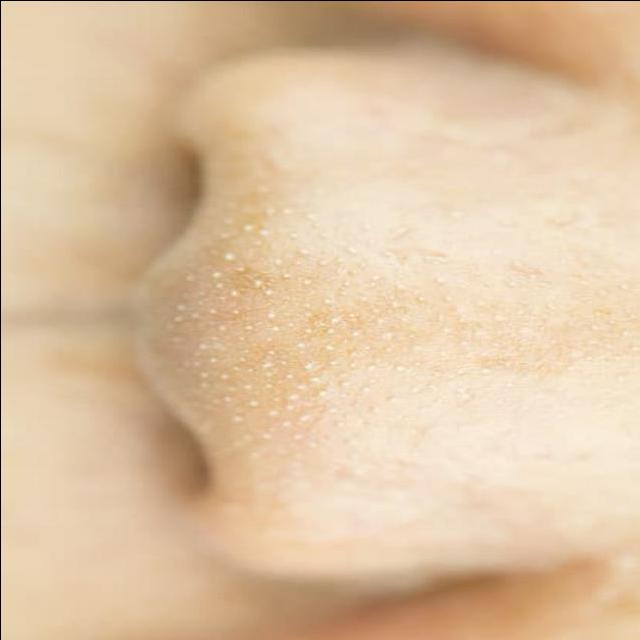whitehead: (149, 188, 432, 473)
